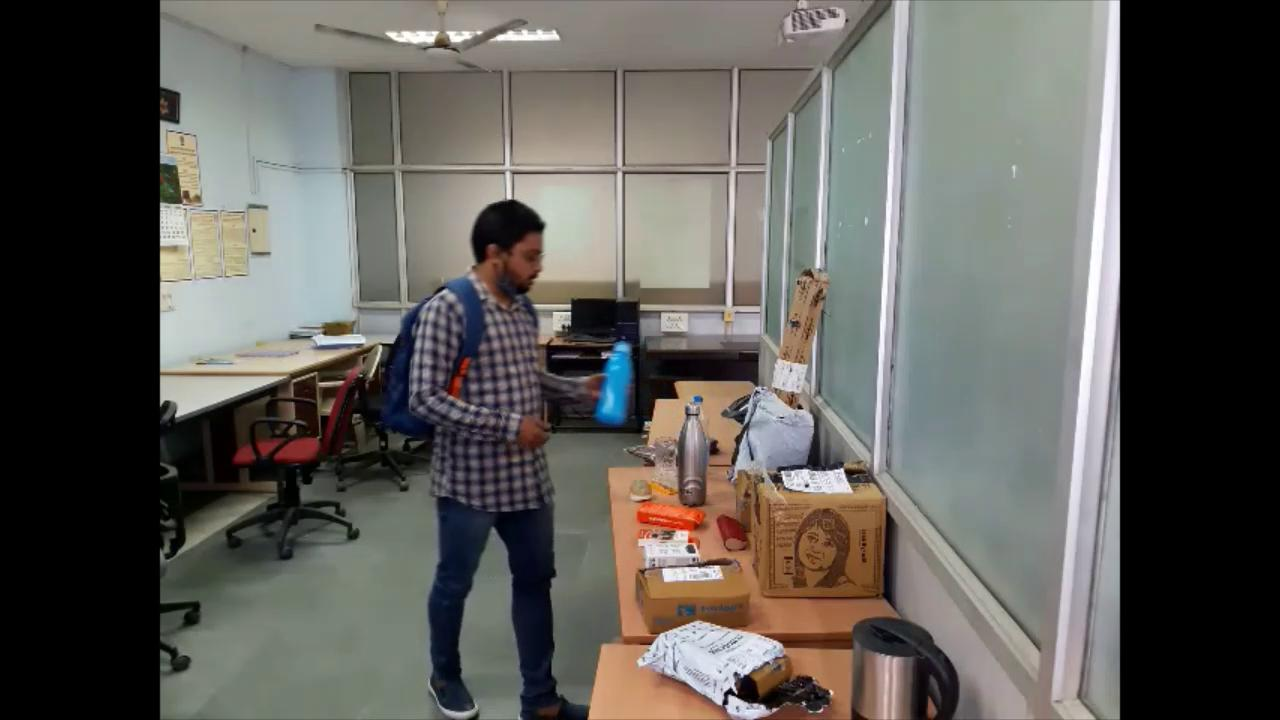Normal: (364, 200, 639, 720)
